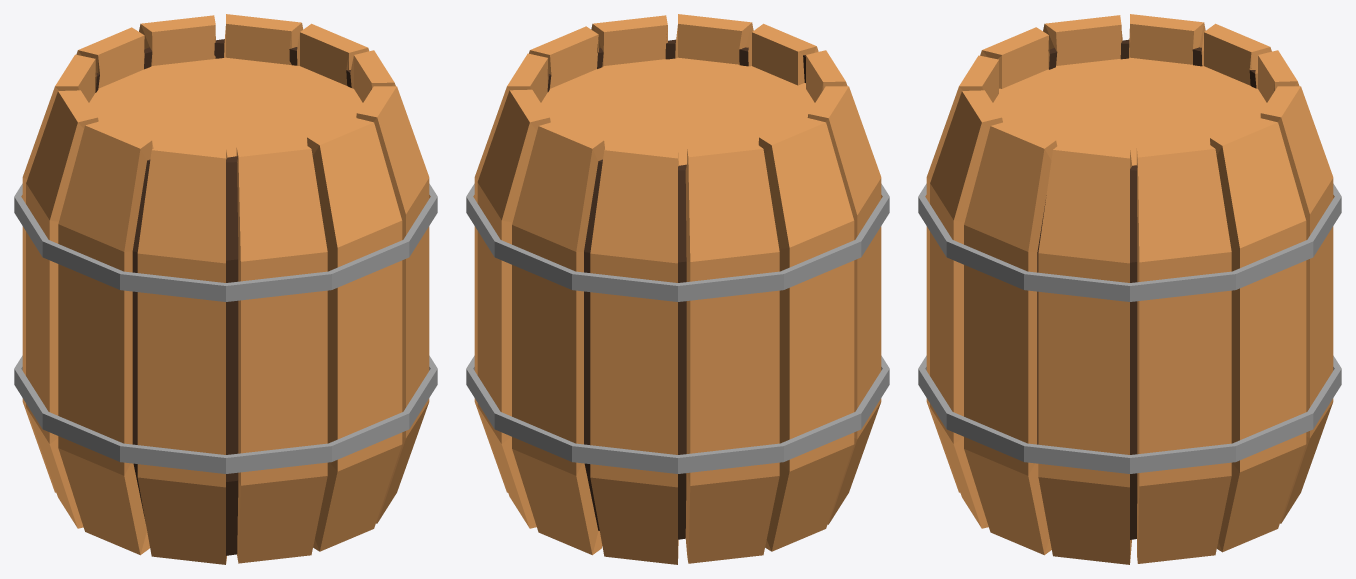
Rendered from barrel.fbx.
The picture shows the model from 3 angles, left to right: view 1: azimuth 30°, elevation 25°; view 2: azimuth 150°, elevation 25°; view 3: azimuth 270°, elevation 25°; orthographic projection.
Parts seen in each view (by area): view 1: Circle; view 2: Circle; view 3: Circle.
Part boxes in pixels (x1,y1,x2,y2): Circle: (14,14,437,564); Circle: (466,14,889,564); Circle: (918,14,1341,564).
Size of the model in its own units: 248 by 262 by 248.
